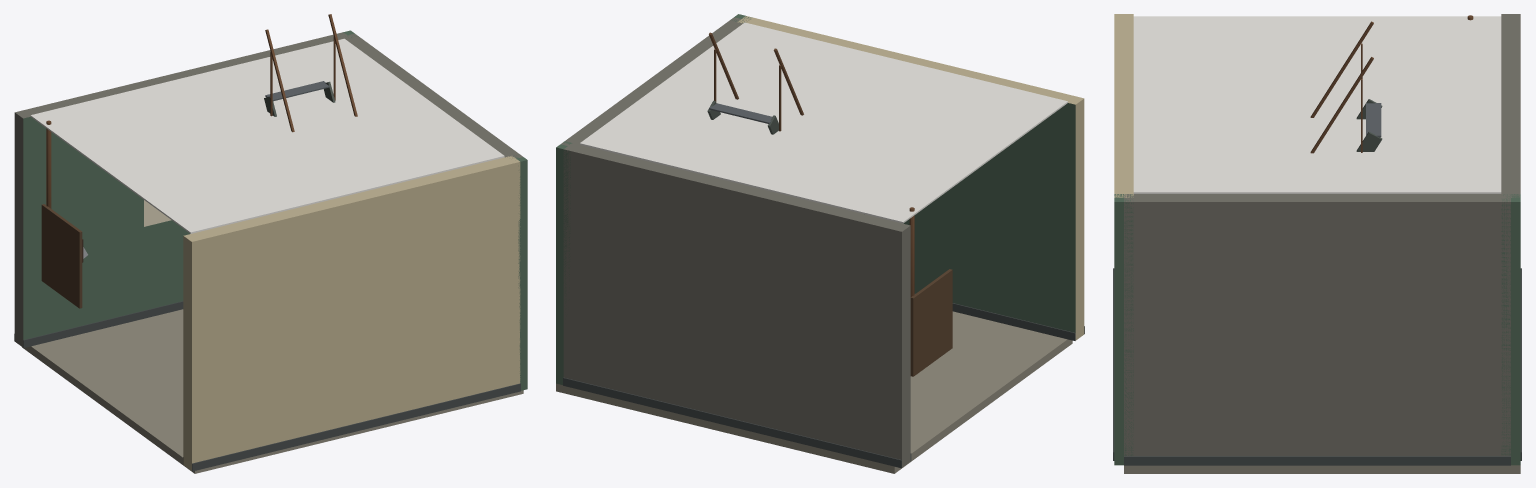
The model's file is ENV_HistoricStairwell.glb.
3 renders of one model, left to right at view 1: azimuth 30°, elevation 25°; view 2: azimuth 150°, elevation 25°; view 3: azimuth 270°, elevation 25°, orthographic. The views are drawn at different scales.
Parts seen in each view (by area): view 1: ENV_HistoricStairwell_Architecture, ENV_HistoricStairwell_Ceiling, PROP_Panel_Fuse_Historic_Mesh.002, ENV_HistoricStairwell_Posts, PROP_Stair_Service_Historic_Mesh; view 2: ENV_HistoricStairwell_Architecture, ENV_HistoricStairwell_Ceiling, PROP_Panel_Fuse_Historic_Mesh.002, ENV_HistoricStairwell_Posts, PROP_Stair_Service_Historic_Mesh; view 3: ENV_HistoricStairwell_Architecture, ENV_HistoricStairwell_Ceiling, ENV_HistoricStairwell_Posts, PROP_Stair_Service_Historic_Mesh.
Boxes of the visible parts, x1=… form: ENV_HistoricStairwell_Architecture: x1=14, y1=32, x2=523, y2=473; ENV_HistoricStairwell_Ceiling: x1=30, y1=38, x2=504, y2=233; PROP_Panel_Fuse_Historic_Mesh.002: x1=41, y1=120, x2=87, y2=308; ENV_HistoricStairwell_Posts: x1=342, y1=30, x2=527, y2=390; PROP_Stair_Service_Historic_Mesh: x1=264, y1=14, x2=357, y2=132; ENV_HistoricStairwell_Architecture: x1=556, y1=16, x2=1084, y2=473; ENV_HistoricStairwell_Ceiling: x1=580, y1=22, x2=1067, y2=223; PROP_Panel_Fuse_Historic_Mesh.002: x1=909, y1=207, x2=952, y2=376; ENV_HistoricStairwell_Posts: x1=556, y1=14, x2=752, y2=384; PROP_Stair_Service_Historic_Mesh: x1=707, y1=32, x2=803, y2=134; ENV_HistoricStairwell_Architecture: x1=1113, y1=14, x2=1521, y2=473; ENV_HistoricStairwell_Ceiling: x1=1133, y1=16, x2=1501, y2=193; ENV_HistoricStairwell_Posts: x1=1114, y1=194, x2=1520, y2=465; PROP_Stair_Service_Historic_Mesh: x1=1310, y1=21, x2=1382, y2=153.
Size of what is drawn, in the model's own units: 4.61 by 4.21 by 4.22.
